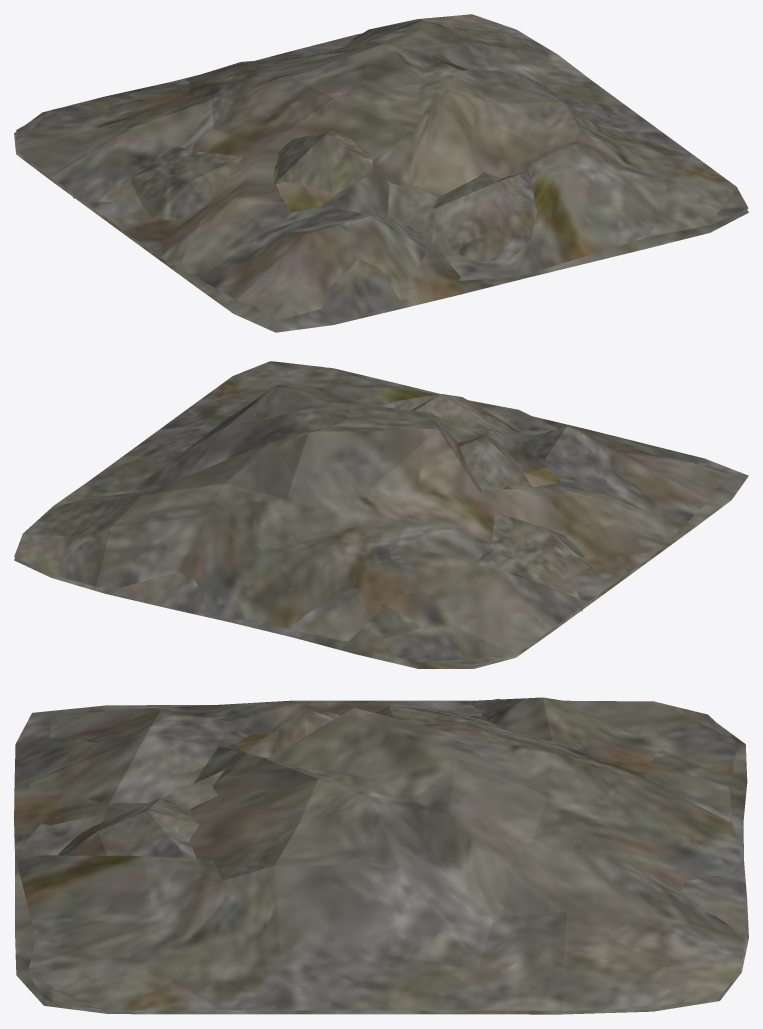
File: wreckage-3-types.glb
3 renders of one model, top to bottom at view 1: azimuth 30°, elevation 25°; view 2: azimuth 150°, elevation 25°; view 3: azimuth 270°, elevation 25°, orthographic. The views are drawn at different scales.
Parts seen in each view (by area): view 1: Wreckage 3; view 2: Wreckage 3; view 3: Wreckage 3.
Part boxes in pixels (left/top/right/bottom): Wreckage 3: left=14, top=14, right=748, bottom=332; Wreckage 3: left=14, top=361, right=748, bottom=668; Wreckage 3: left=14, top=697, right=748, bottom=1014.
Size of the model in its own units: 8.49 by 1.57 by 8.43.
1 material, 1 textured.
